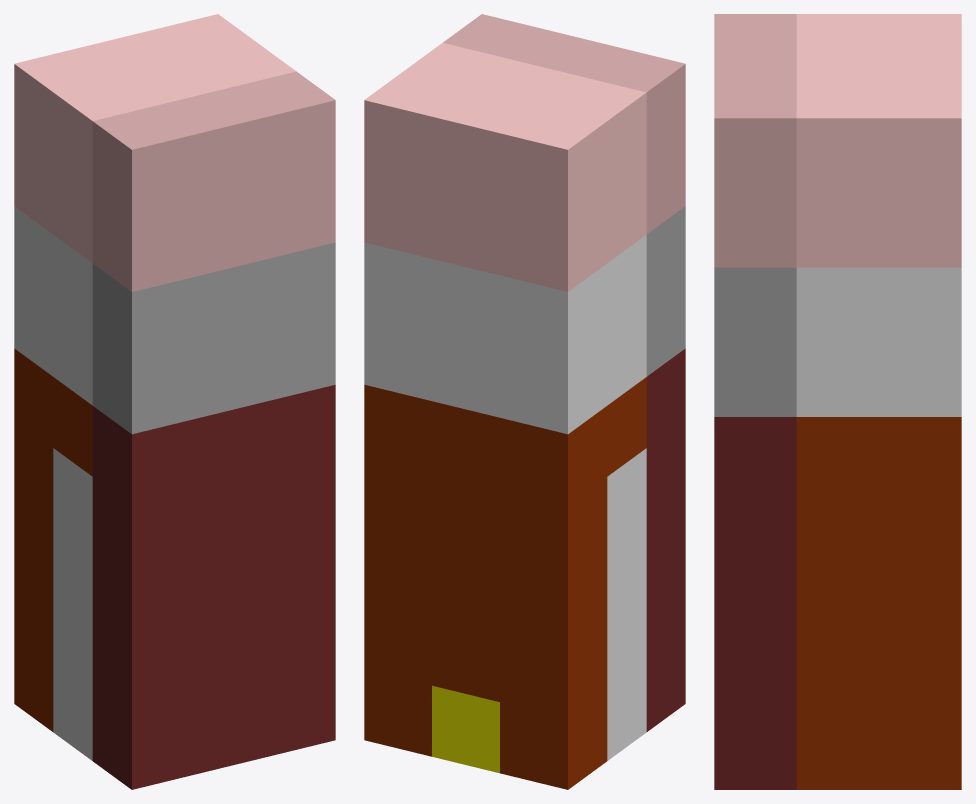
Rendered from pracGenny-10-Lleg2.obj.
3 renders of one model, left to right at view 1: azimuth 30°, elevation 25°; view 2: azimuth 150°, elevation 25°; view 3: azimuth 270°, elevation 25°, orthographic. The views are drawn at different scales.
Parts seen in each view (by area): view 1: Lleg2; view 2: Lleg2; view 3: Lleg2.
Part boxes in pixels (x1,y1,x2,y2): Lleg2: (14,14,335,789); Lleg2: (364,14,685,789); Lleg2: (714,14,961,789).
Size of the model in its own units: 0.3 by 0.9 by 0.3.
Materials: 1 (1 with a texture image).
